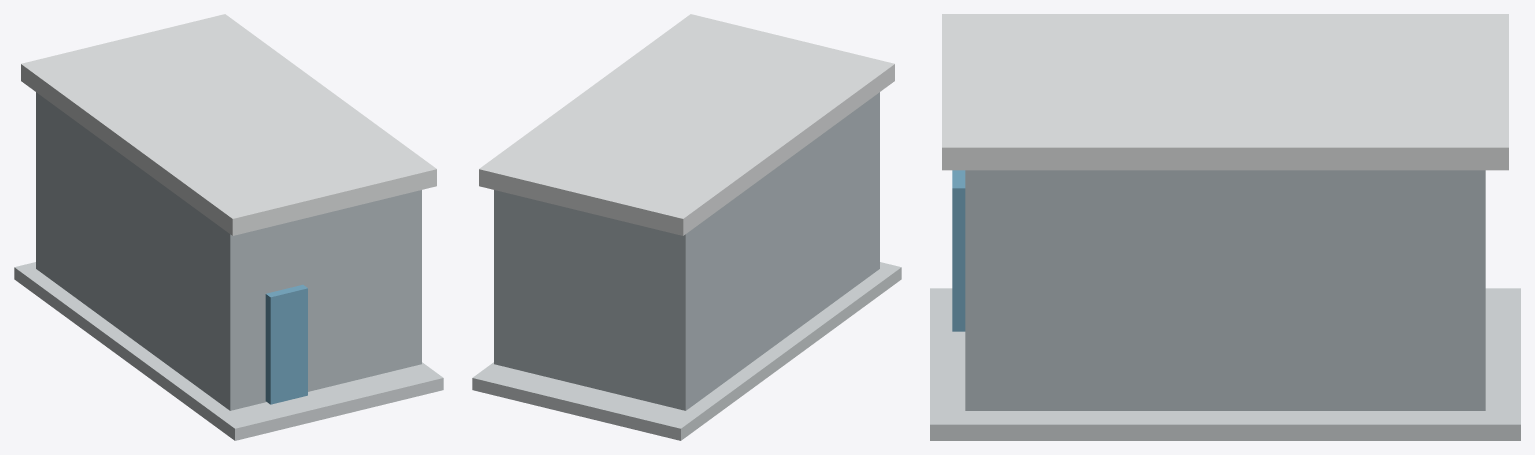
Rendered from lab.glb.
The picture shows the model from 3 angles, left to right: view 1: azimuth 30°, elevation 25°; view 2: azimuth 150°, elevation 25°; view 3: azimuth 270°, elevation 25°; orthographic projection. The views are drawn at different scales.
Visible parts, largest first — view 1: lab; view 2: lab; view 3: lab.
Part boxes in pixels (x1,y1,x2,y2): lab: (14,14,443,440); lab: (472,14,901,440); lab: (930,14,1520,440).
Bounding box in the file's own units: 6 × 6 × 11.
